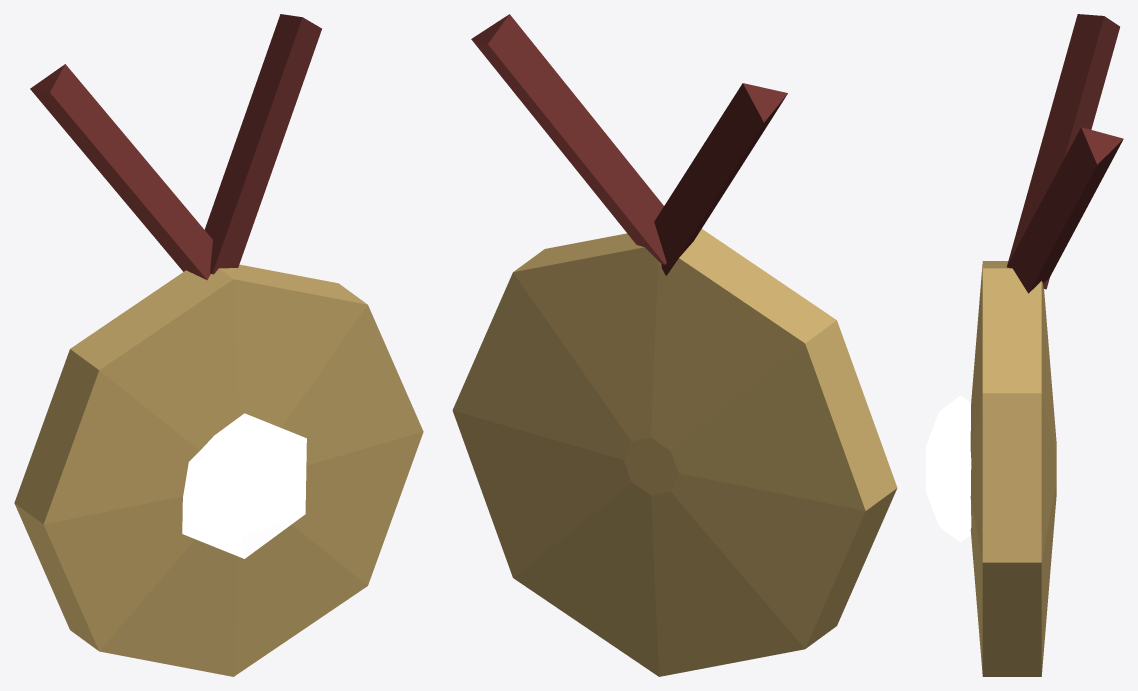
Rendered from charm.glb.
3 views of the same model, side by side, from view 1: azimuth 30°, elevation 25°; view 2: azimuth 150°, elevation 25°; view 3: azimuth 270°, elevation 25° (orthographic). The views are drawn at different scales.
Parts seen in each view (by area): view 1: charm; view 2: charm; view 3: charm.
Part boxes in pixels (x1,y1,x2,y2): charm: (14, 14, 423, 676); charm: (452, 14, 897, 676); charm: (926, 14, 1123, 676).
Bounding box in the file's own units: 0.06 × 0.0898 × 0.0268.
